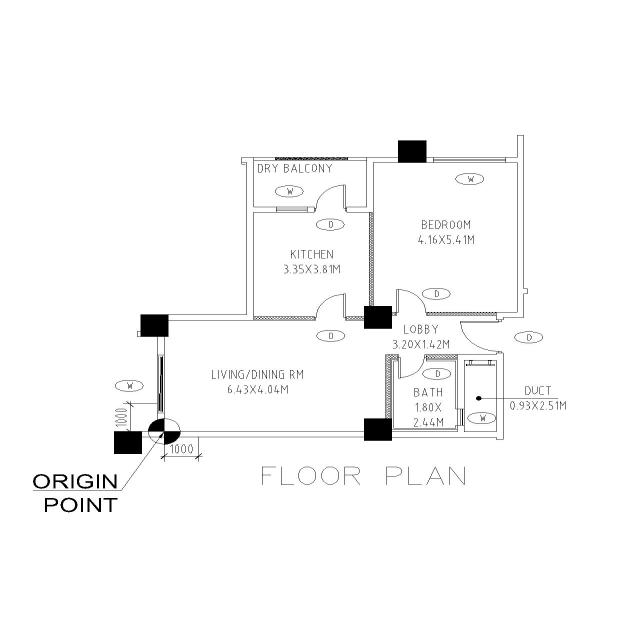Column: (394, 138, 430, 166), (362, 417, 396, 444), (139, 312, 171, 340), (362, 303, 393, 330)
Door: (494, 316, 504, 356), (396, 352, 428, 363), (312, 206, 350, 214), (396, 310, 428, 318), (312, 316, 348, 322)
Window: (154, 353, 168, 413), (432, 156, 506, 164), (453, 405, 467, 429), (273, 206, 309, 214)
